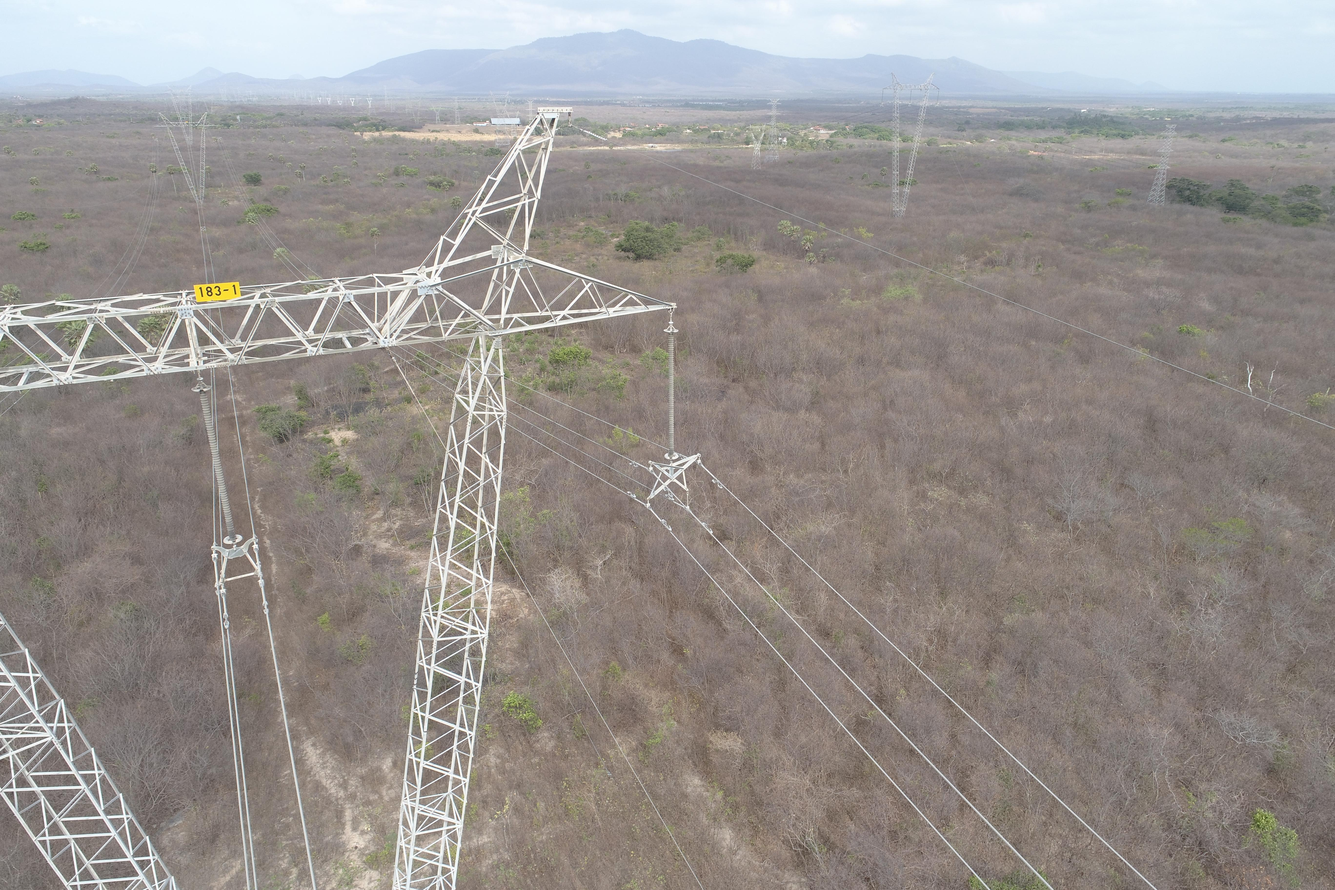power_tower: (0, 115, 698, 890), (875, 70, 942, 222), (152, 112, 221, 207), (1145, 117, 1177, 213), (165, 85, 199, 145), (766, 90, 789, 164), (741, 122, 770, 172), (484, 85, 514, 127), (404, 91, 423, 124), (451, 94, 466, 127), (428, 99, 447, 125), (197, 93, 219, 111), (380, 84, 392, 112), (364, 95, 375, 110), (348, 97, 357, 106), (317, 96, 324, 105), (326, 96, 332, 105), (336, 100, 344, 106)
